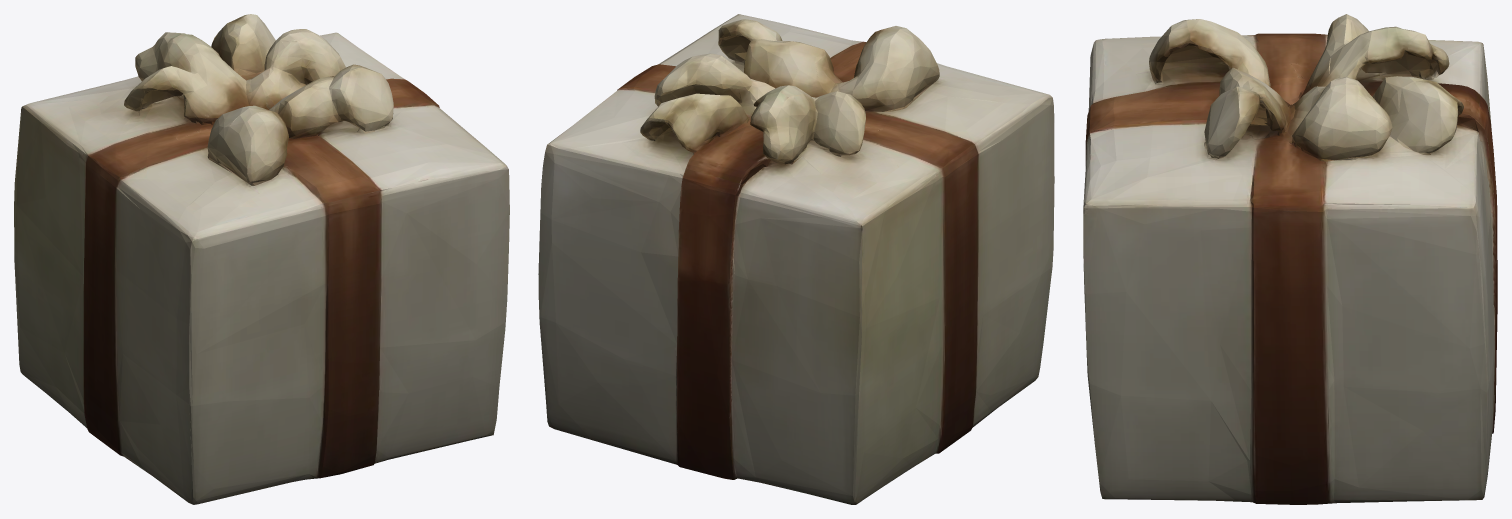
File: counter_display_black_light.glb
The picture shows the model from 3 angles, left to right: view 1: azimuth 30°, elevation 25°; view 2: azimuth 150°, elevation 25°; view 3: azimuth 270°, elevation 25°; orthographic projection. The views are drawn at different scales.
Parts seen in each view (by area): view 1: geometry_0; view 2: geometry_0; view 3: geometry_0.
Part boxes in pixels (<box>): geometry_0: <box>14,14,509,504</box>; geometry_0: <box>538,14,1054,504</box>; geometry_0: <box>1083,14,1497,504</box>.
Bounding box in the file's own units: 0.4798 × 0.4871 × 0.4829.
1 material, 1 textured.
